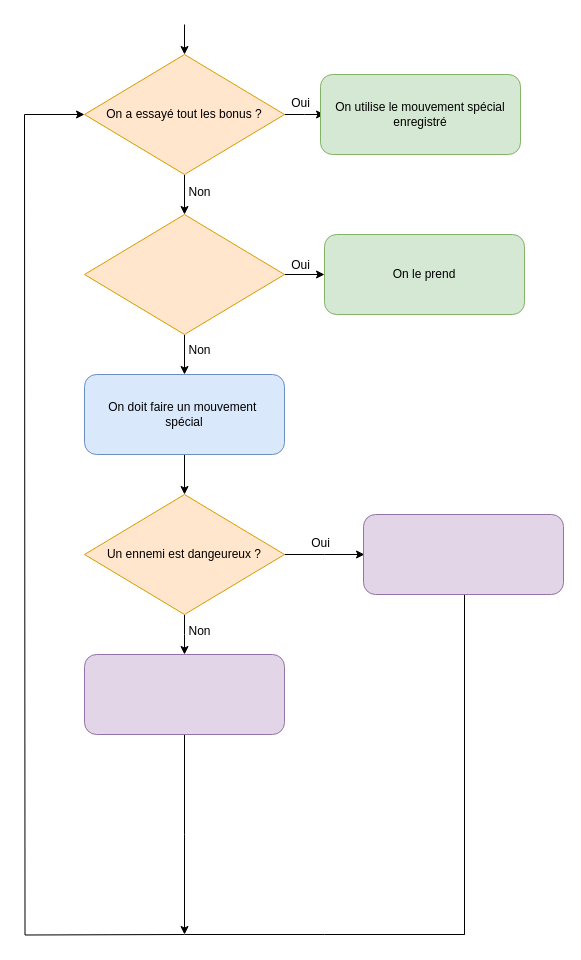
Image size: 581x960. Some labels were removed from this diagram. Each missing label, with the centre of its shape:
A-t-on trouvé un chemin avec le A* ?: pixel 184 274
Si il n'existe pas, o n créé un mouvement spécial de combat: pixel 463 554
Si il n'existe pas, on créé un mouvement spécial de rapprochement: pixel 184 694
